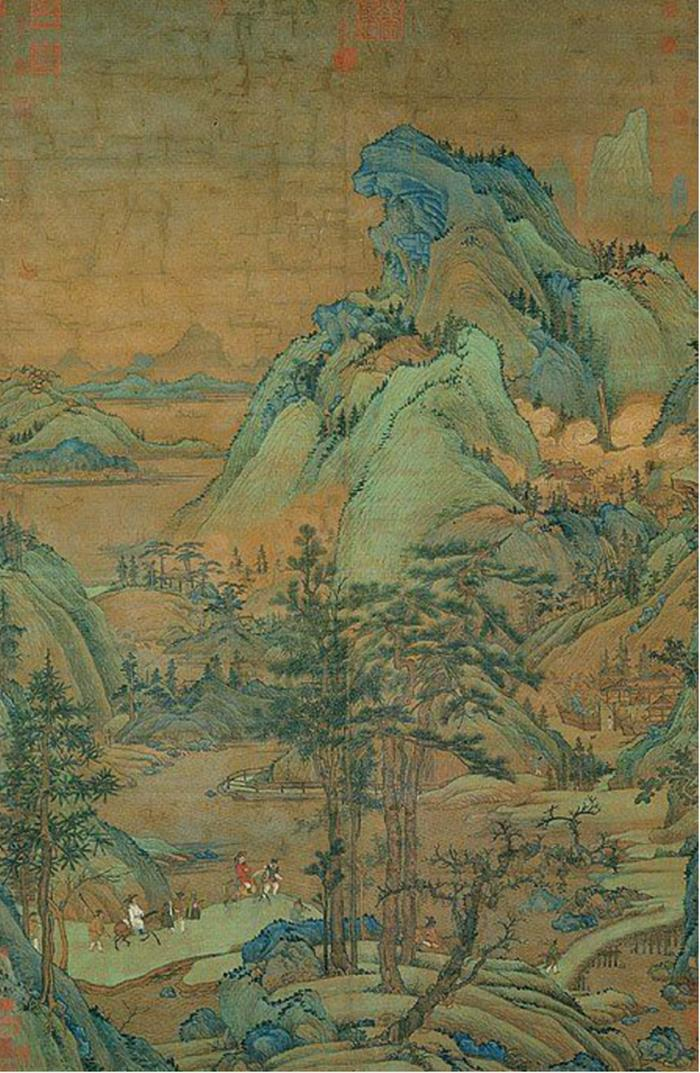bridge: (527, 911, 684, 987)
horse: (113, 913, 174, 948), (219, 870, 265, 903), (232, 850, 255, 890), (260, 861, 281, 898), (526, 754, 548, 777), (605, 713, 618, 733)
house: (602, 669, 685, 728)
man: (86, 909, 111, 955), (122, 894, 149, 932), (26, 908, 43, 948), (423, 915, 443, 949), (161, 900, 181, 933), (189, 890, 207, 925), (173, 893, 190, 930), (547, 941, 561, 970)
mountain: (229, 150, 586, 660)
range: (49, 315, 271, 399), (1, 355, 129, 463)
river: (164, 729, 310, 853), (24, 471, 129, 585)
tree: (290, 550, 436, 991), (8, 655, 91, 1005), (148, 543, 199, 588)
